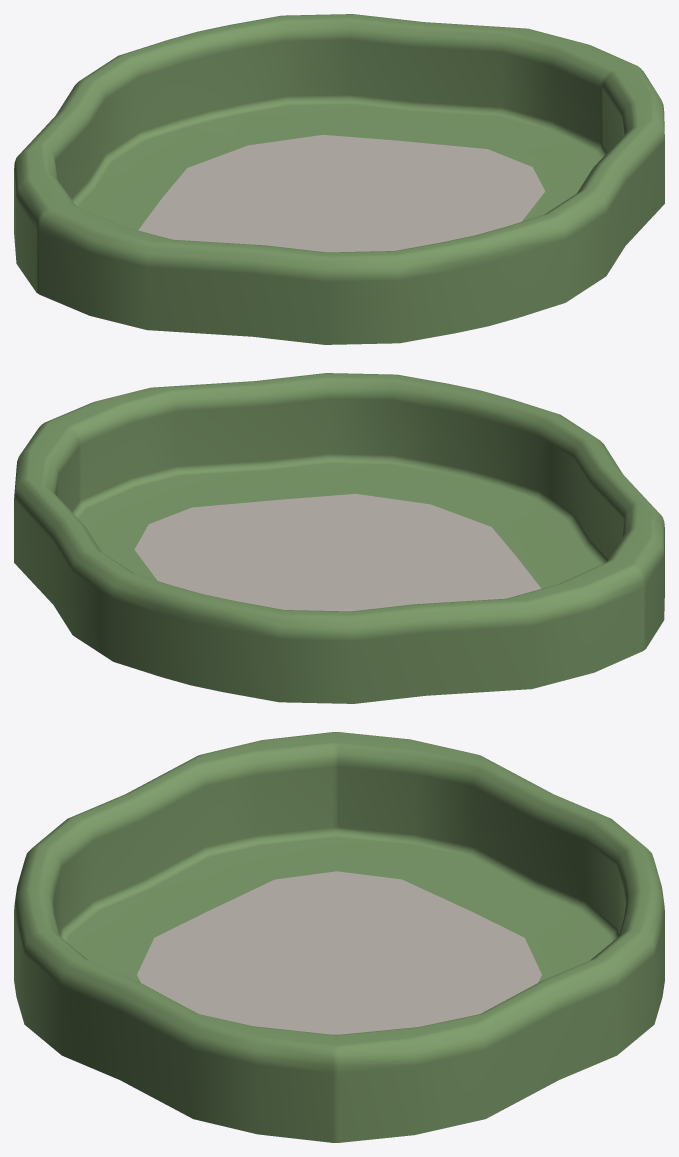
Rendered from Garden_Hedge_Prototype.fbx.
The picture shows the model from 3 angles, top to bottom: view 1: azimuth 30°, elevation 25°; view 2: azimuth 150°, elevation 25°; view 3: azimuth 270°, elevation 25°; orthographic projection. The views are drawn at different scales.
Visible parts, largest first — view 1: Garden_hedge; view 2: Garden_hedge; view 3: Garden_hedge.
Part boxes in pixels (x1,y1,x2,y2): Garden_hedge: (14,14,664,344); Garden_hedge: (14,373,664,703); Garden_hedge: (14,732,664,1142).
Bounding box in the file's own units: 1459 × 190 × 1232.
